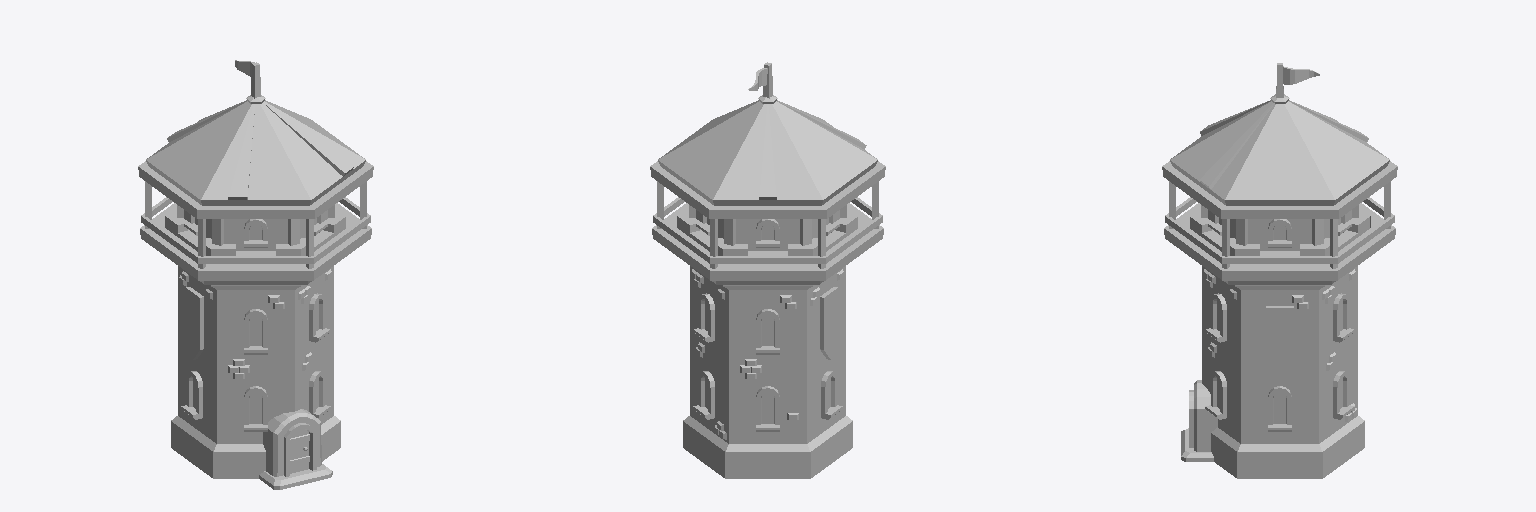
File: normal_tower_lvl2.obj
3 views of the same model, side by side, from view 1: azimuth 30°, elevation 25°; view 2: azimuth 150°, elevation 25°; view 3: azimuth 270°, elevation 25° (orthographic).
Visible parts, largest first — view 1: building_tower_B_top_green; view 2: building_tower_B_top_green; view 3: building_tower_B_top_green.
Part boxes in pixels (x1,y1,x2,y2): building_tower_B_top_green: (138,60,373,489); building_tower_B_top_green: (650,62,885,478); building_tower_B_top_green: (1162,63,1397,478).
Bounding box in the file's own units: 1.2 × 2.49 × 1.38.